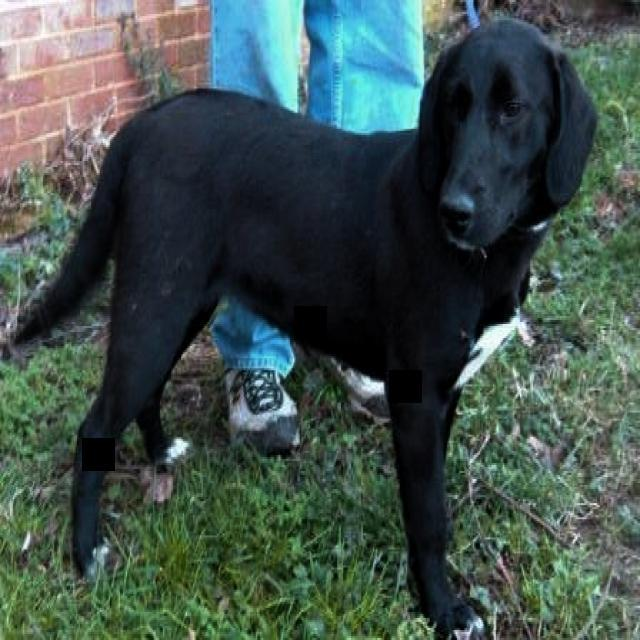adult_dog: (10, 15, 600, 640)
